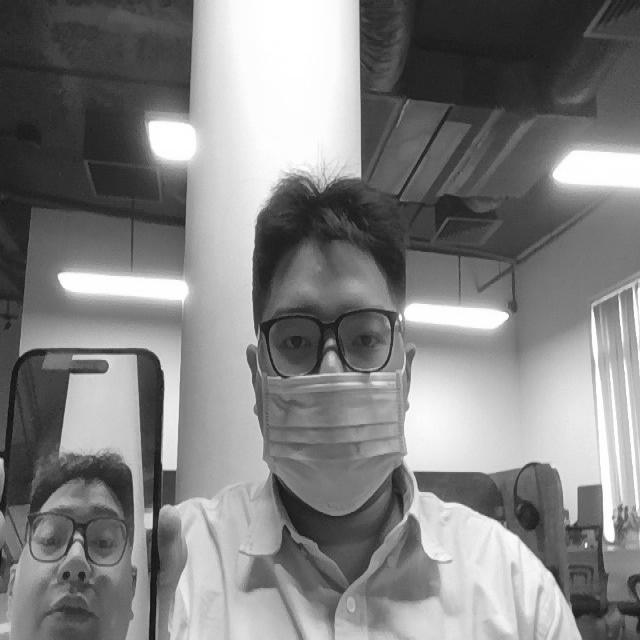fake: (0, 303, 185, 640), (9, 435, 139, 640), (257, 364, 409, 522)
real: (237, 142, 442, 554), (261, 296, 403, 377)
